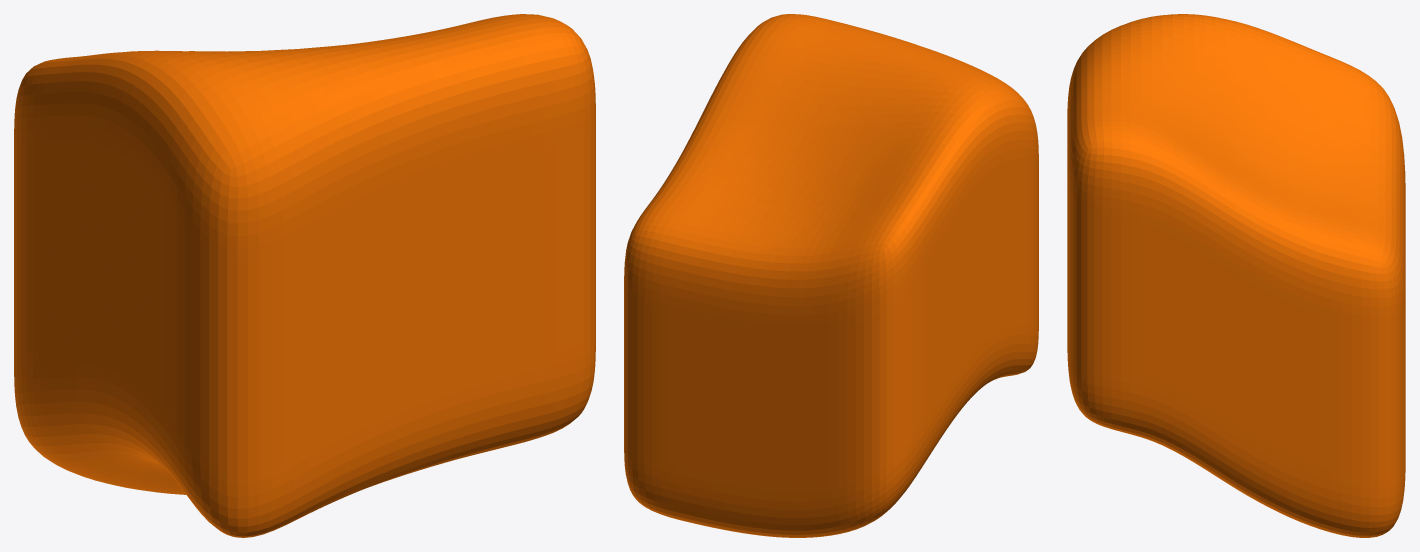
The picture shows the model from 3 angles, left to right: view 1: azimuth 30°, elevation 25°; view 2: azimuth 150°, elevation 25°; view 3: azimuth 270°, elevation 25°; orthographic projection. The views are drawn at different scales.
Parts seen in each view (by area): view 1: smooth_1_base.019; view 2: smooth_1_base.019; view 3: smooth_1_base.019.
Boxes of the visible parts, bbox=[...] form: smooth_1_base.019: bbox=[14, 14, 595, 537]; smooth_1_base.019: bbox=[624, 14, 1038, 537]; smooth_1_base.019: bbox=[1067, 14, 1405, 537].
Bounding box in the file's own units: 60 × 80.96 × 60.
